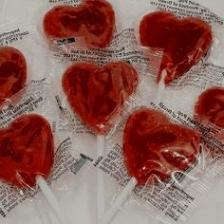red: (123, 109, 200, 186), (63, 62, 138, 135), (140, 11, 213, 85), (0, 114, 54, 188), (44, 0, 115, 48), (0, 47, 27, 103), (196, 88, 224, 128)
